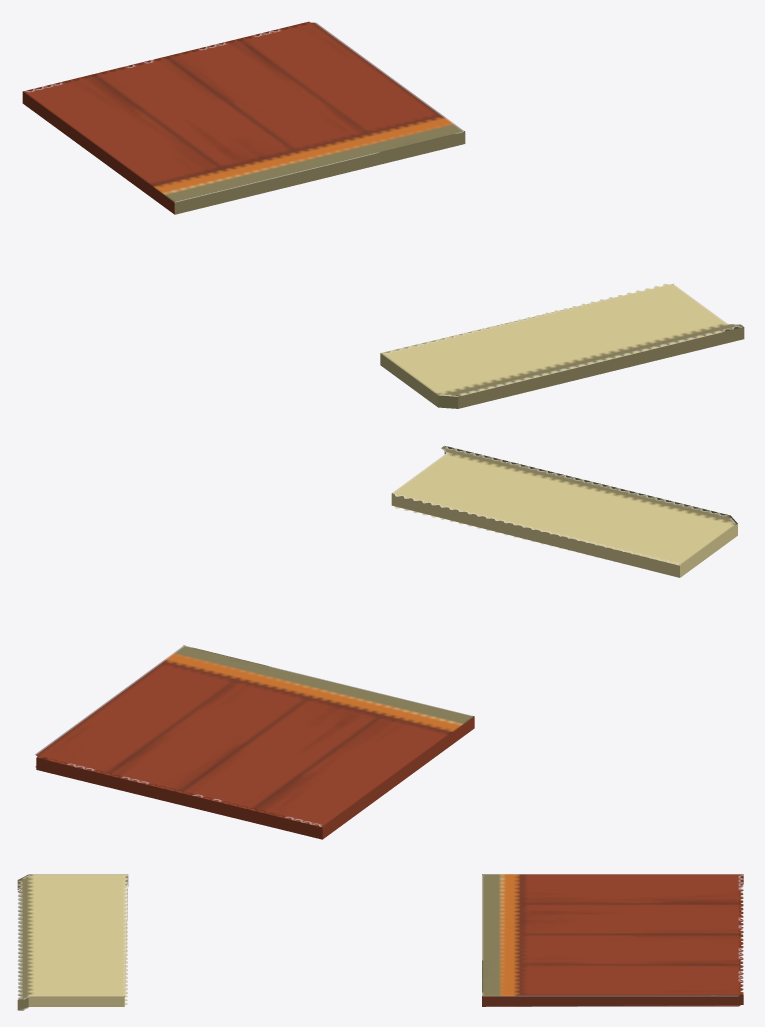
The model's file is pz_native_location_restaurant_spiffos_01_76_frame.obj.
3 renders of one model, top to bottom at view 1: azimuth 30°, elevation 25°; view 2: azimuth 150°, elevation 25°; view 3: azimuth 270°, elevation 25°, orthographic. The views are drawn at different scales.
Visible parts, largest first — view 1: pz_native_location_restaurant_spiffos_01_76_frame; view 2: pz_native_location_restaurant_spiffos_01_76_frame; view 3: pz_native_location_restaurant_spiffos_01_76_frame.
Boxes of the visible parts, x1,y1,x2,y2 form: pz_native_location_restaurant_spiffos_01_76_frame: (22,21,744,408); pz_native_location_restaurant_spiffos_01_76_frame: (35,446,737,839); pz_native_location_restaurant_spiffos_01_76_frame: (17,874,743,1010).
Size of the model in its own units: 1.06 by 0.04 by 2.55.
Materials: 1 (1 with a texture image).
